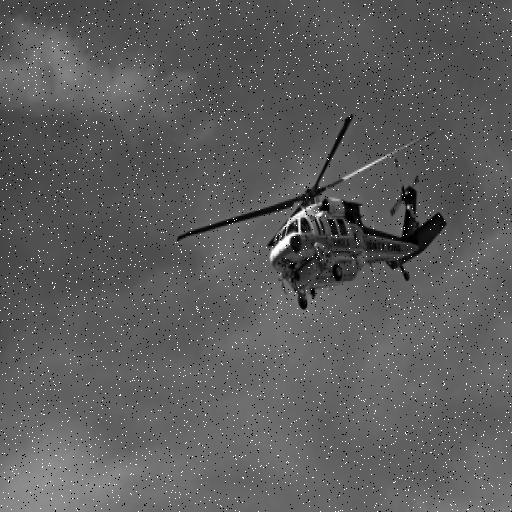helicopter: (181, 115, 445, 319)
